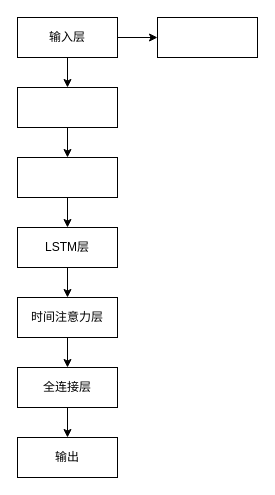
Image size: 275x495. Some labels were removed from this diagram. The shapes that lost their labels are listed below. From the top down, each one's centre as x and y in pixels, then its label:
At [207,37]: "输入维度 [ 时间步长 * 特征]".
At [67,107]: "特征注意力层".
At [67,177]: "CNN层".
